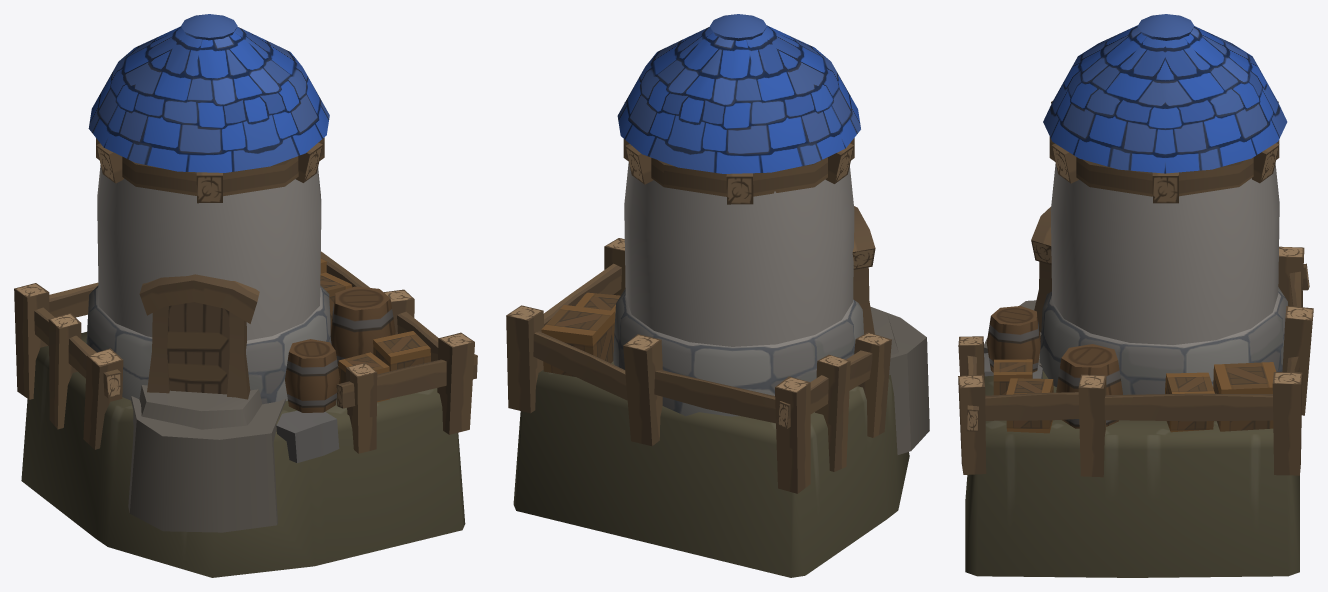
The model's file is Granary.FBX.
The picture shows the model from 3 angles, left to right: view 1: azimuth 30°, elevation 25°; view 2: azimuth 150°, elevation 25°; view 3: azimuth 270°, elevation 25°; orthographic projection.
Parts seen in each view (by area): view 1: Granary; view 2: Granary; view 3: Granary.
Boxes of the visible parts, bbox=[...] form: Granary: bbox=[14, 14, 477, 577]; Granary: bbox=[506, 14, 929, 577]; Granary: bbox=[958, 14, 1313, 577].
Bounding box in the file's own units: 425 × 649 × 433.
